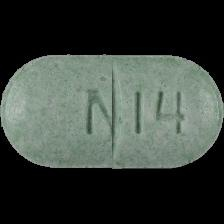0378-1821: (0, 0, 224, 224)
